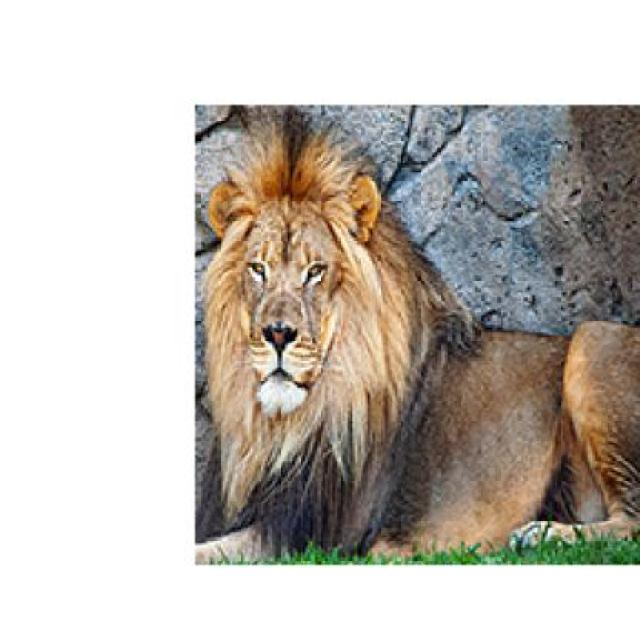Lion: (186, 99, 639, 623)
